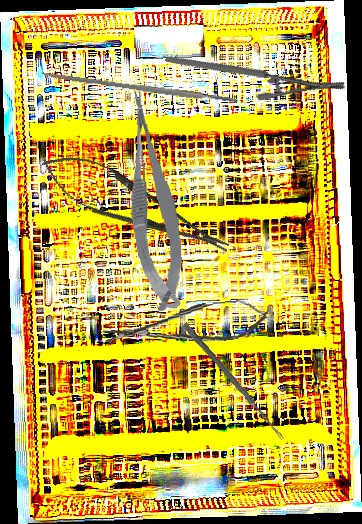Micro Scissor: (123, 88, 187, 313), (100, 297, 271, 352)
Needle Holder: (32, 140, 238, 271), (164, 2, 348, 142)
Scalpel Handle: (40, 70, 240, 106)
Surgical Spoon: (181, 322, 286, 441)
